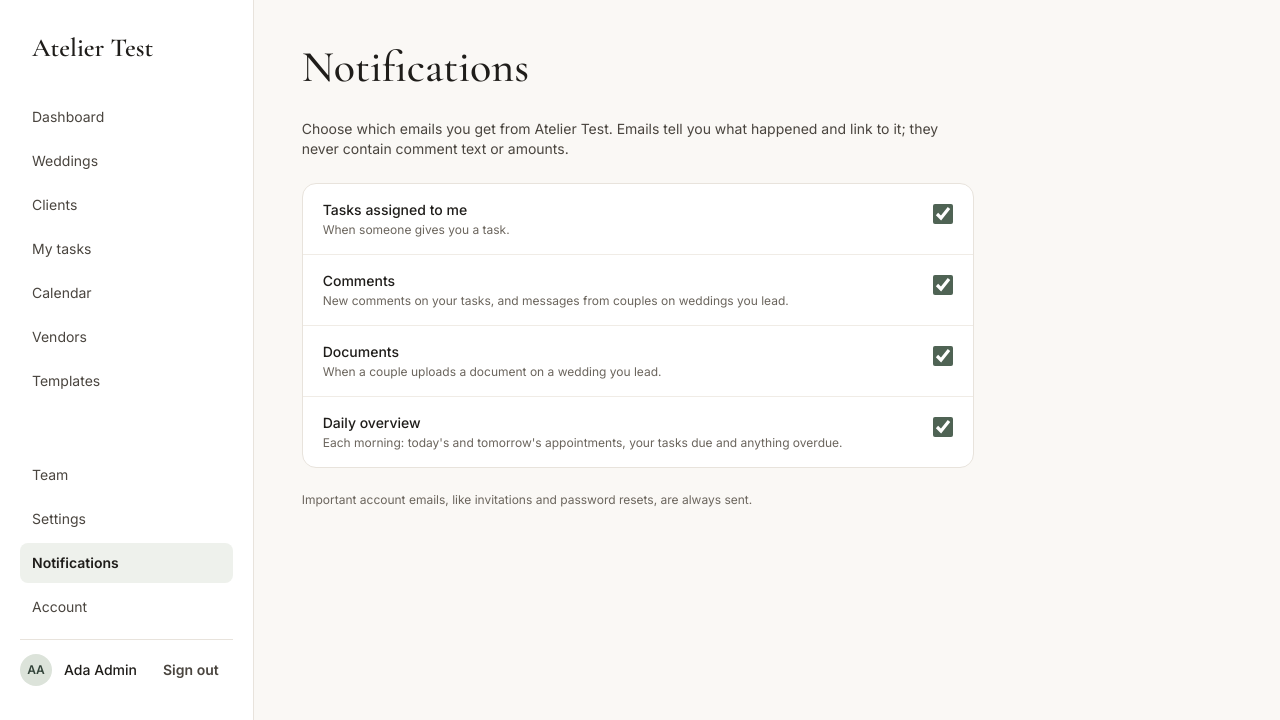
Test: team members switch email notifications
The width and height of the screenshot is (1280, 720).
Click the switch labelled "Daily overview" at (943, 427), box [933,417,953,437]
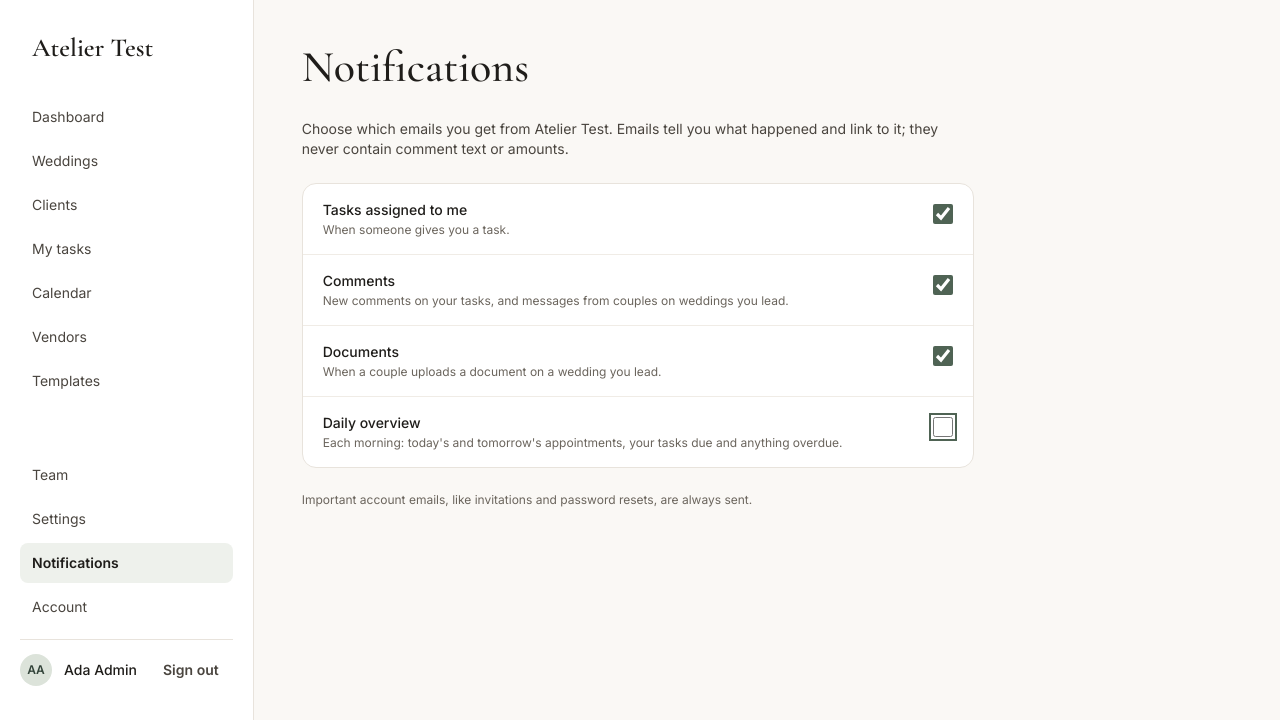
Expected: the switch labelled "Tasks assigned to me When someone gives you a task." is shown, [933,204,953,224]
Expected: the switch labelled "Daily overview" is not checked, [933,417,953,437]
